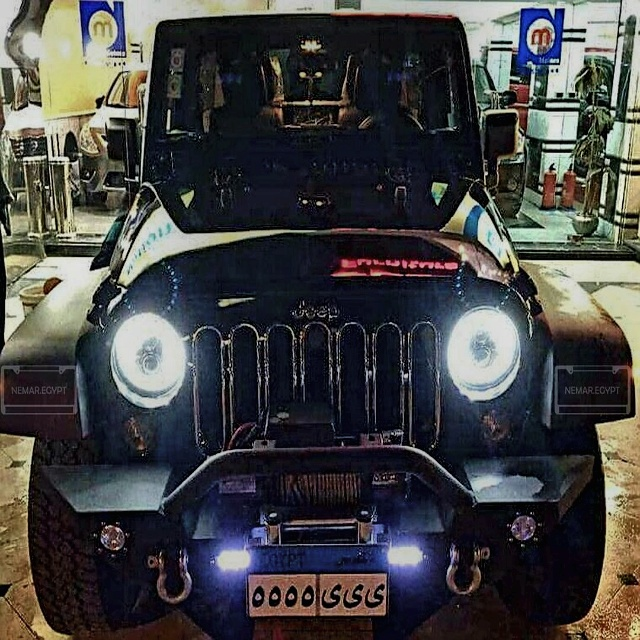License Plate: (240, 540, 393, 623)
